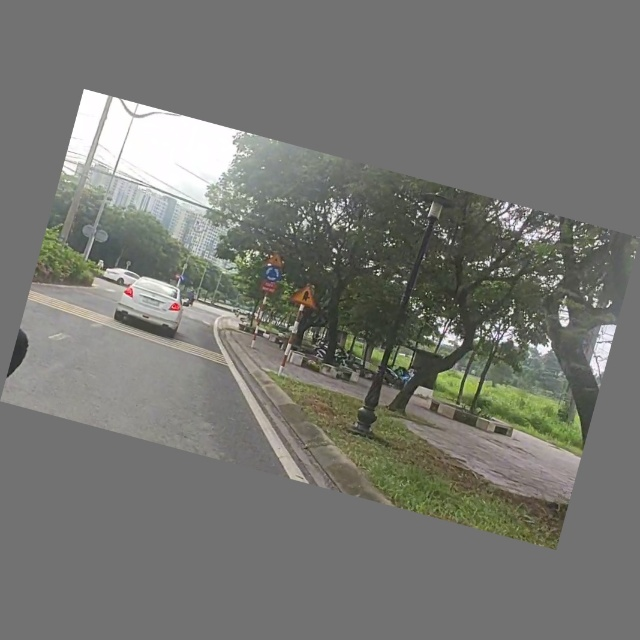P.102: (173, 273, 181, 281)
R.302a: (179, 274, 188, 283)
R.303: (261, 264, 285, 286)
W.207: (290, 281, 321, 310)
W.224: (263, 250, 288, 269)
